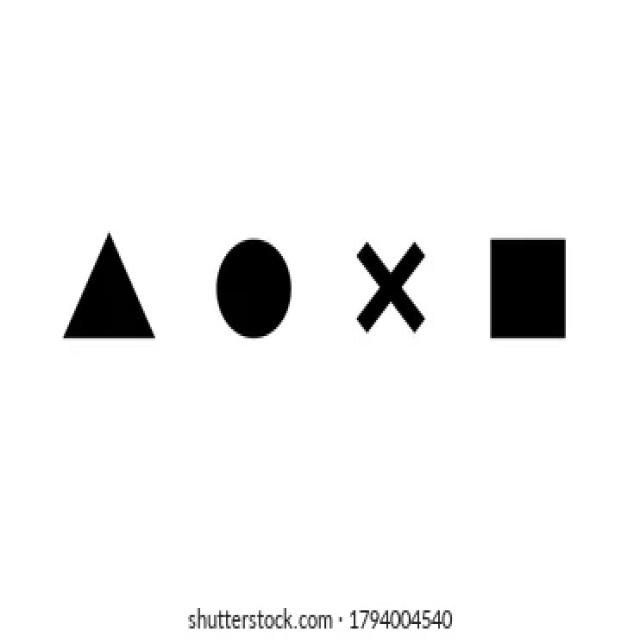circle: (203, 222, 305, 352)
cross: (331, 224, 453, 361)
square: (476, 216, 586, 367)
triangle: (55, 223, 165, 361)
